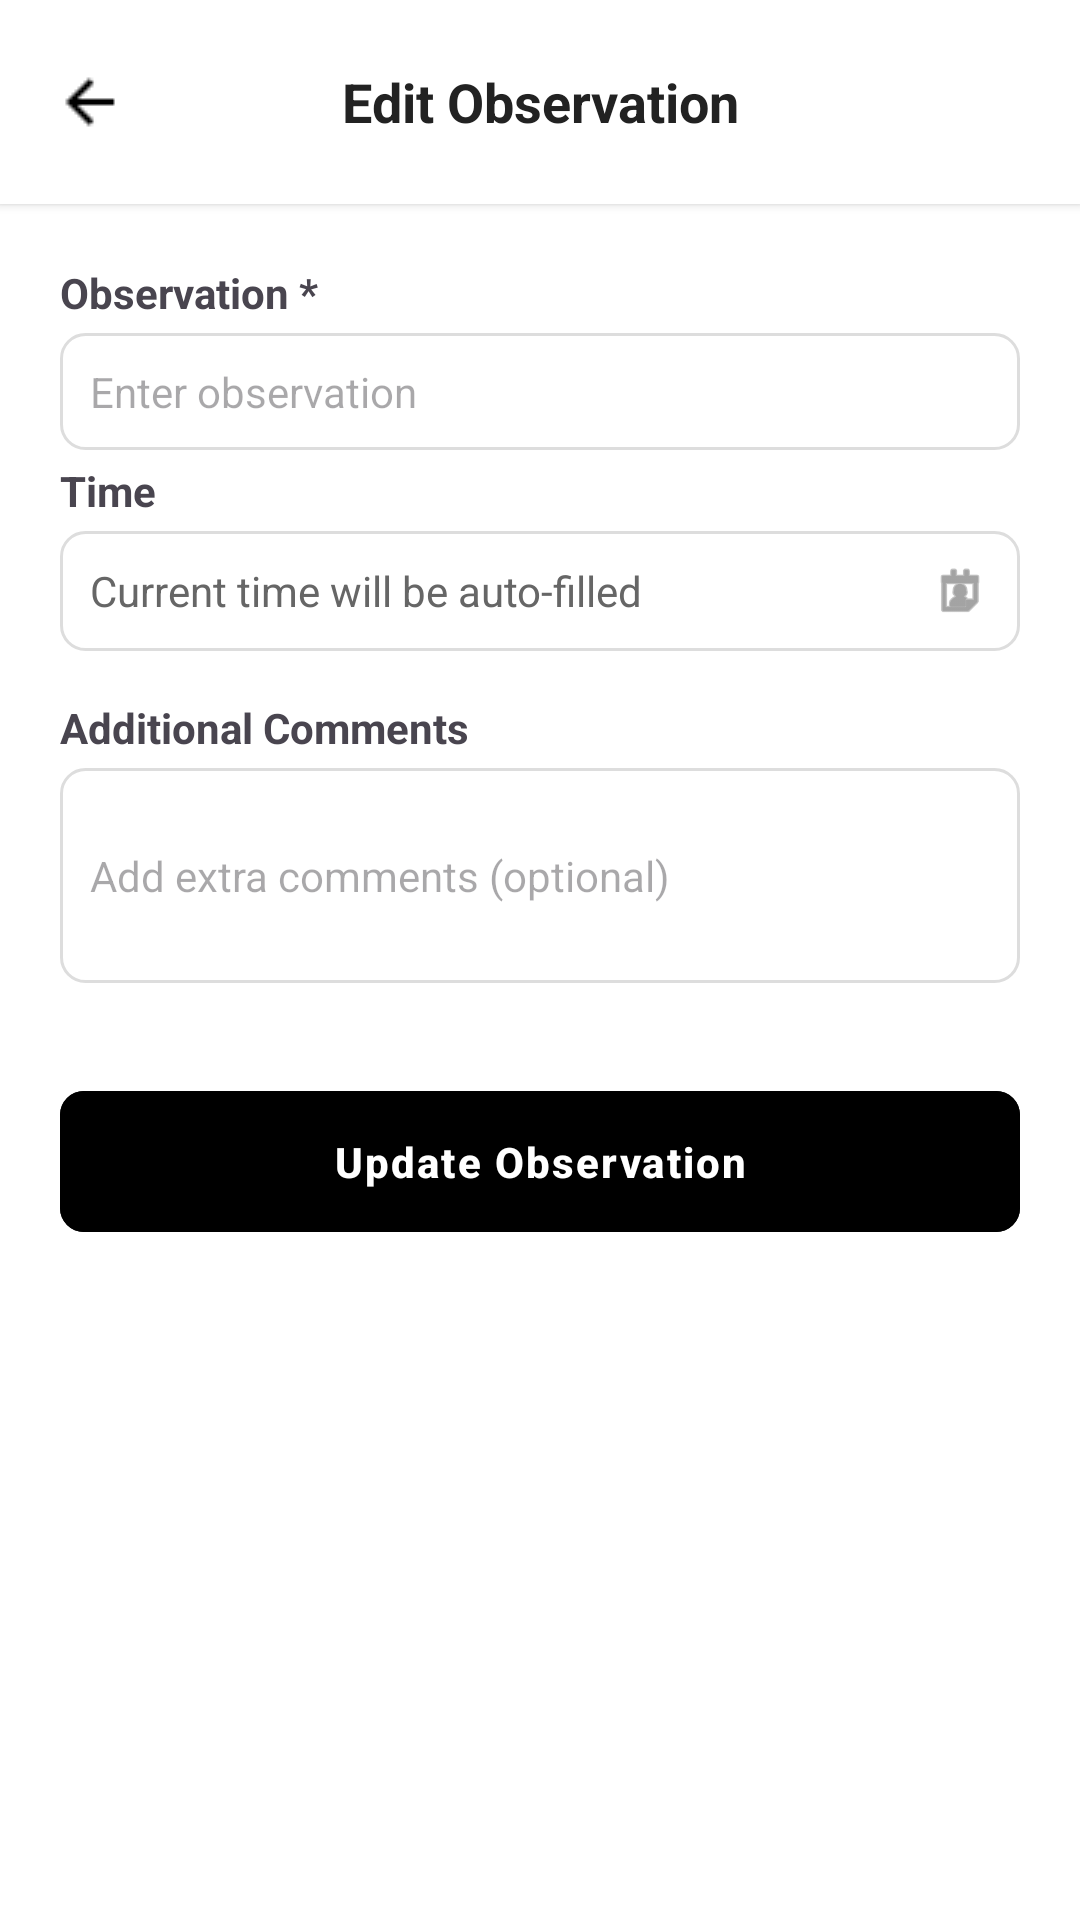

Icons on this 1080 × 1920 Android screen, each with the point to tap as [x,y]:
Back: [90,102]
calendar: [960,590]
